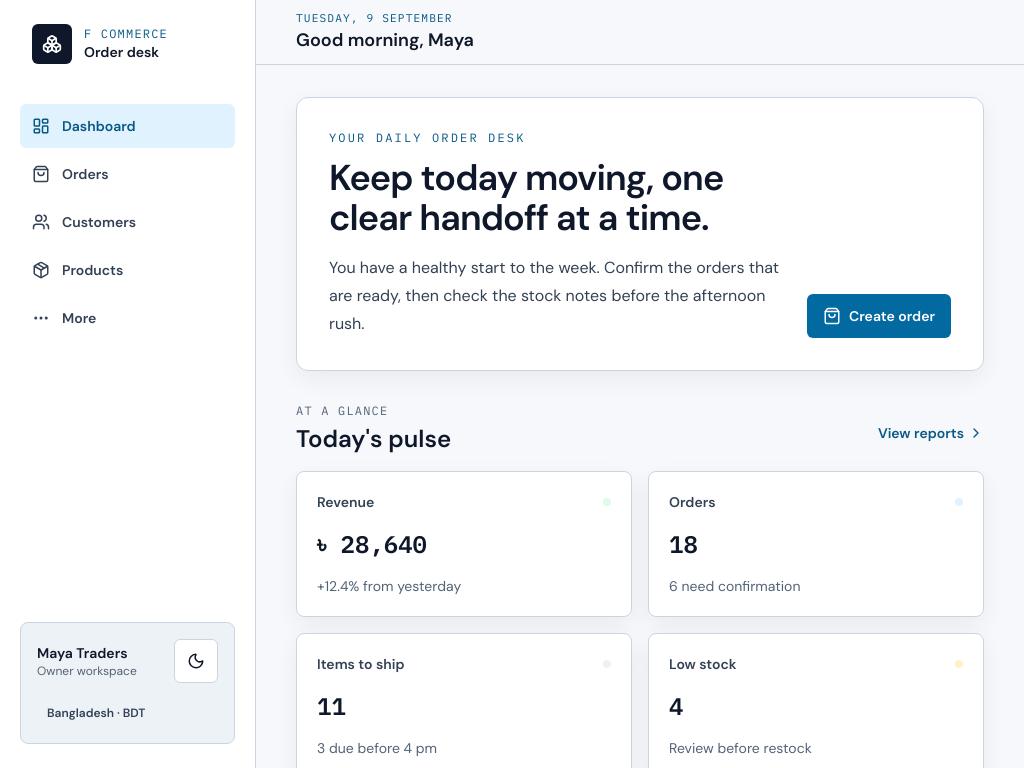
seller console foundation › provides a labeled theme toggle
This screenshot has width=1024, height=768.
Click the button named "Use dark theme": (196, 661) [174,639,218,683]
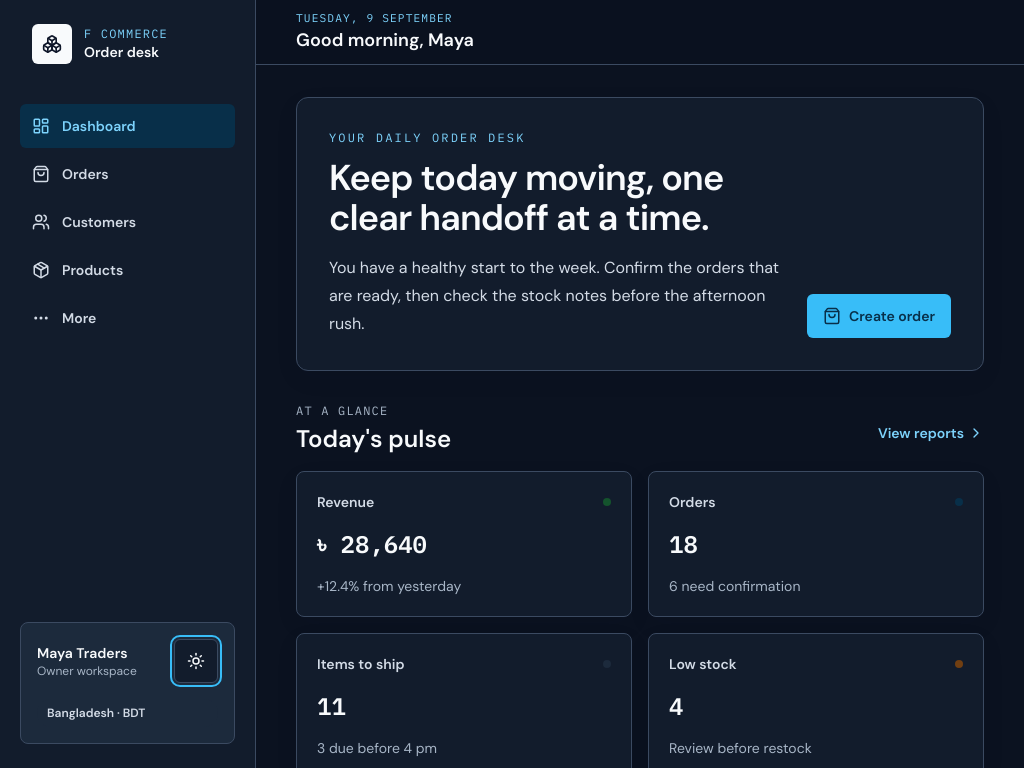
Expected: the button named "Use light theme" is shown, [174,639,218,683]
